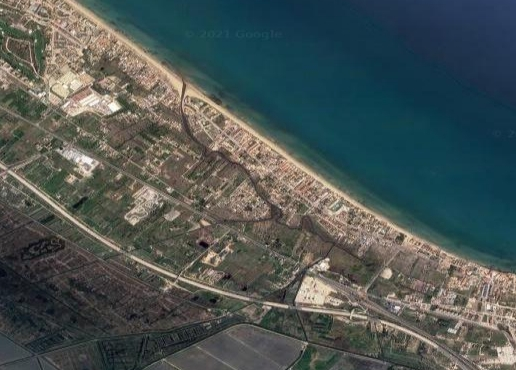bridge: (4, 165, 13, 174), (175, 271, 182, 280)
industrial: (66, 80, 119, 120), (61, 145, 95, 175)
motorway: (1, 102, 74, 146), (75, 146, 145, 185), (105, 240, 175, 277), (256, 298, 356, 323), (176, 274, 256, 304), (53, 202, 105, 245), (1, 159, 52, 202), (423, 336, 481, 369), (325, 276, 383, 309), (266, 244, 324, 277), (206, 213, 264, 246), (147, 182, 205, 215), (357, 312, 423, 337)
